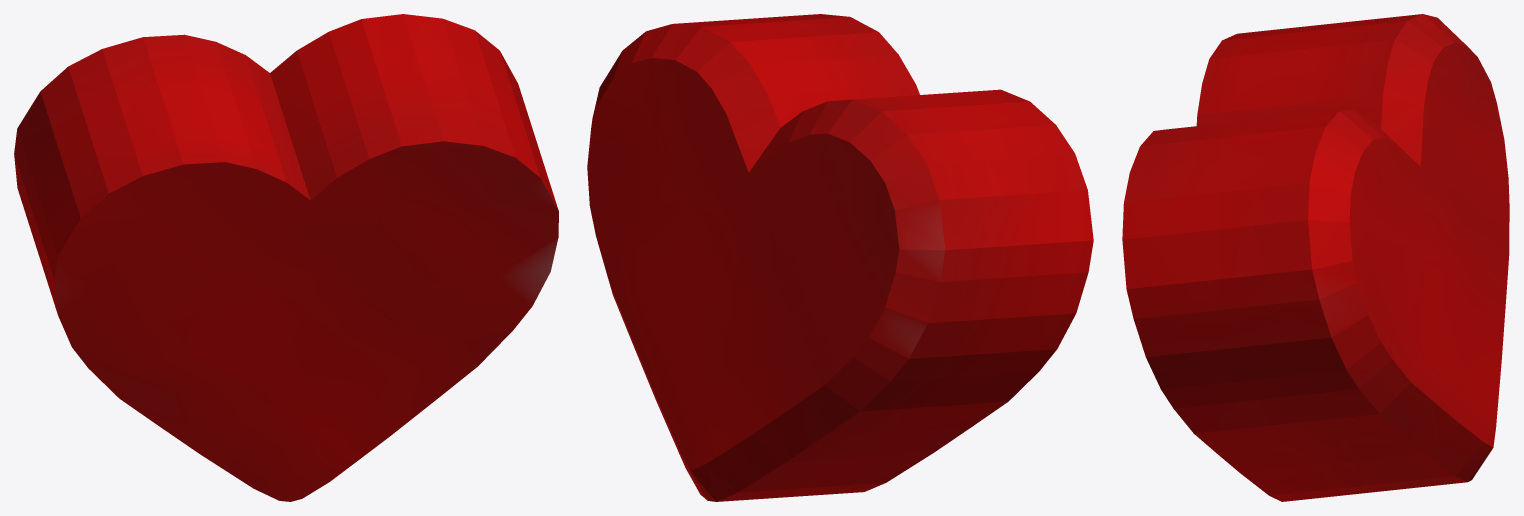
Rendered from CHEST HEART.fbx.
The picture shows the model from 3 angles, left to right: view 1: azimuth 30°, elevation 25°; view 2: azimuth 150°, elevation 25°; view 3: azimuth 270°, elevation 25°; orthographic projection. The views are drawn at different scales.
Visible parts, largest first — view 1: CHEST_HEART; view 2: CHEST_HEART; view 3: CHEST_HEART.
Boxes of the visible parts, box(x1,y1,x2,y2) form: CHEST_HEART: box(14, 14, 558, 501); CHEST_HEART: box(587, 14, 1093, 501); CHEST_HEART: box(1122, 14, 1509, 501).
Bounding box in the file's own units: 9.46 × 8.35 × 6.7.
